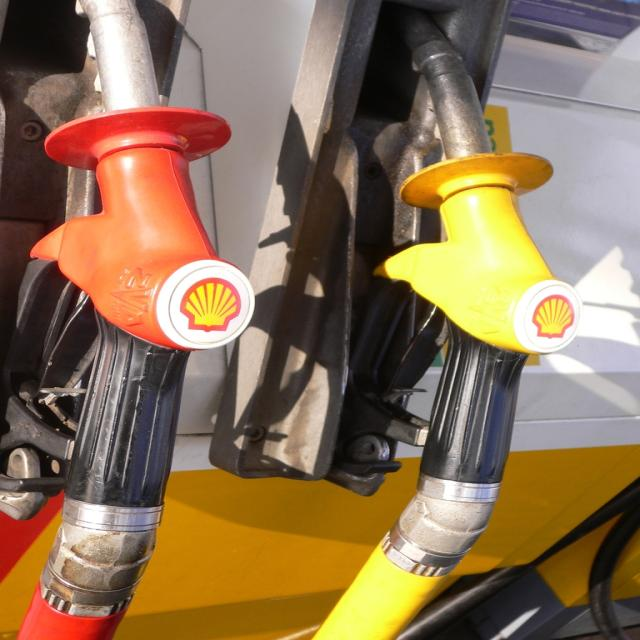shell: (180, 277, 244, 334), (533, 296, 576, 340)
